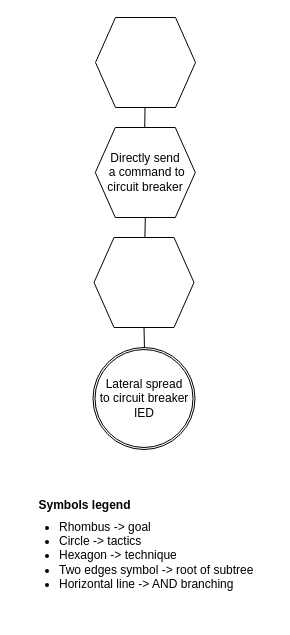
Image size: 290x635. Some labels were removed from this diagram. The shapes that lost their labels are listed below. From the top down, each one's centre as x and y in pixels, then its label:
pixel 145 62: Send a command to electrical safety element
pixel 143 282: Directly send a command to circuit breaker from circuit breaker IED
